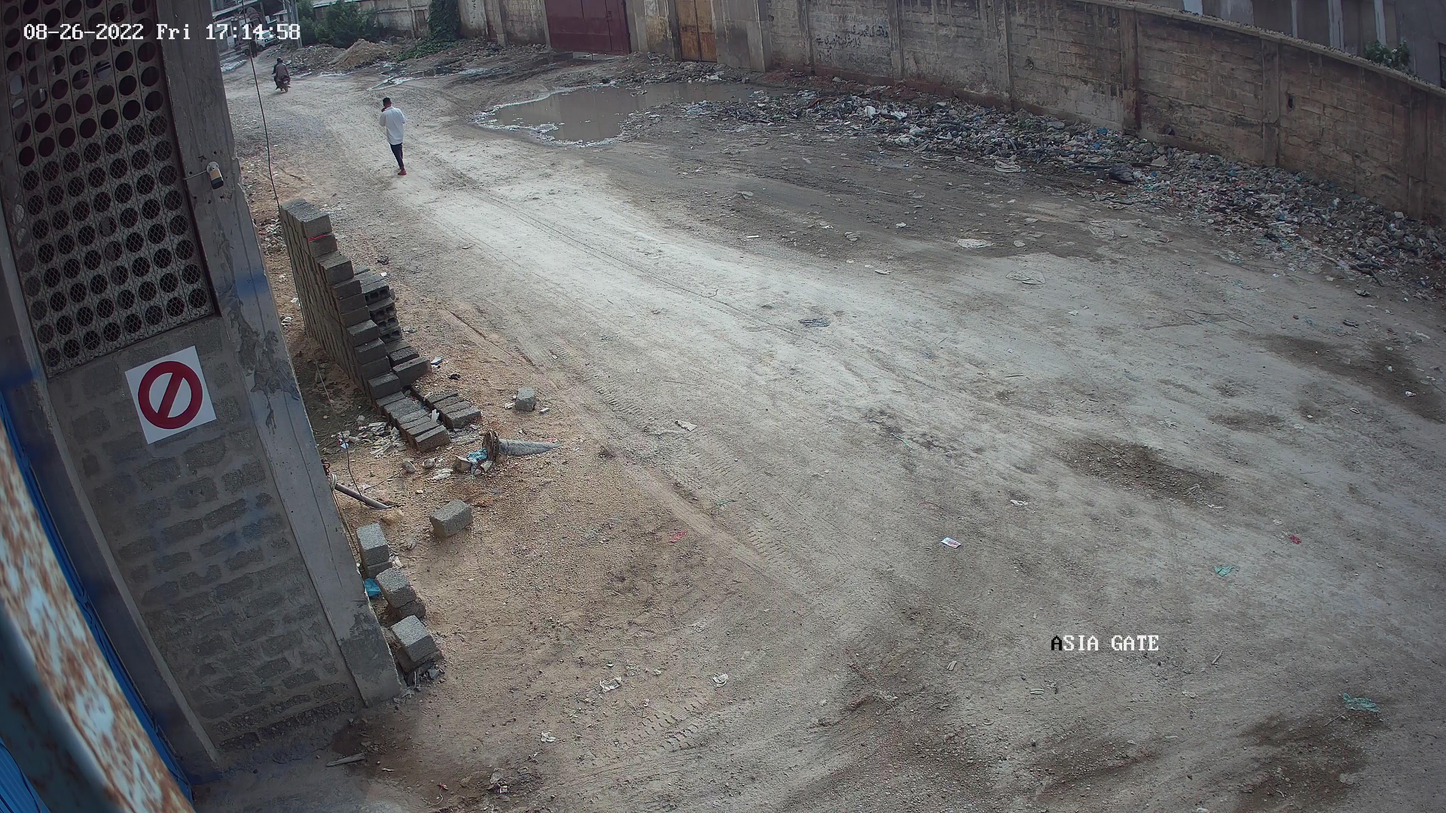person: (374, 92, 416, 187)
